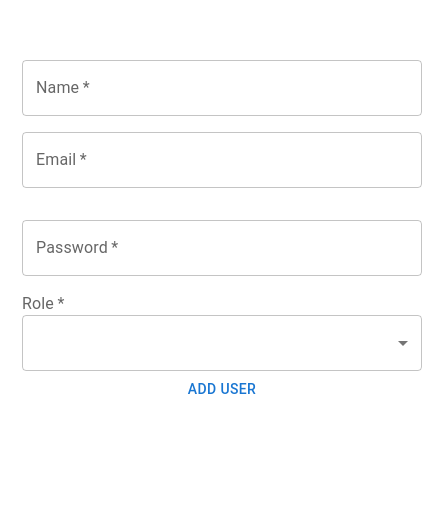
Test: AddUserFormLeicht › shows department field for non-customer roles
Click the dropdown named "role" at (222, 343), box x1=22 y1=315 x2=422 y2=371
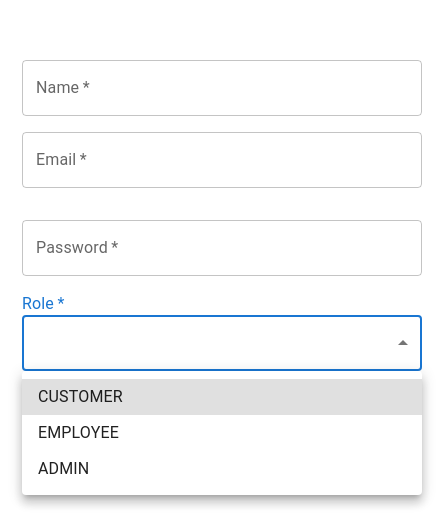
Click the option "ADMIN" at (64, 468), box x1=38 y1=459 x2=89 y2=478
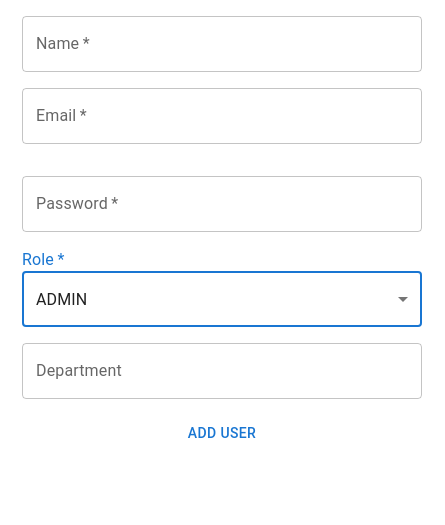
Now the field labelled "Department" is shown, box x1=22 y1=343 x2=422 y2=399
